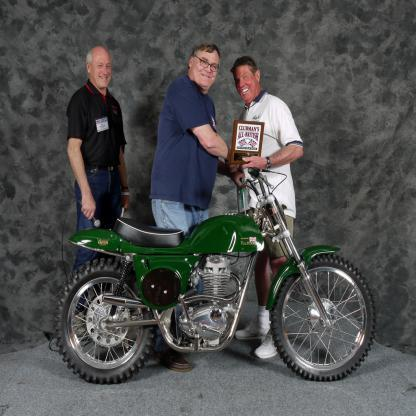motorcycle: (55, 158, 368, 388)
